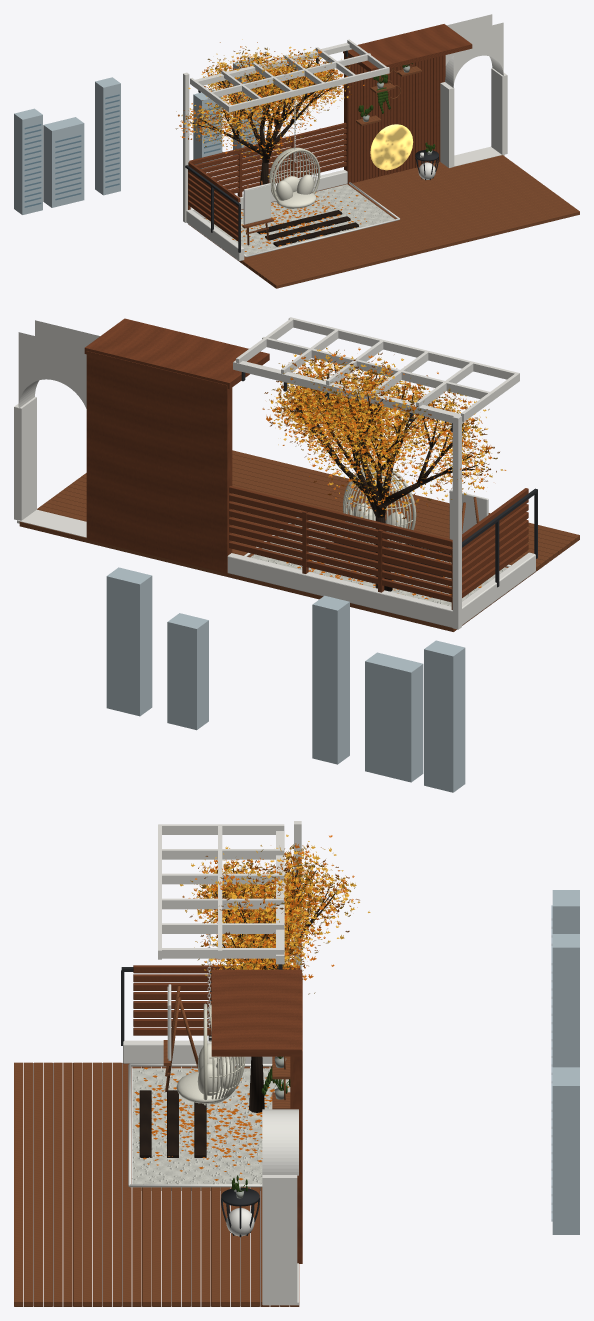
The model's file is Xingtong_Seasonal_Terrace_Textured.glb.
3 views of the same model, one above another, from view 1: azimuth 30°, elevation 25°; view 2: azimuth 150°, elevation 25°; view 3: azimuth 270°, elevation 25° (orthographic). The views are drawn at different scales.
Parts seen in each view (by area): view 1: Gravel_bed, Dense_autumn_canopy_autumn_yellow, Dense_autumn_canopy_autumn_gold, APPROXIMATE_distant_building.001, Small_roof_overhang, APPROXIMATE_distant_building.002, APPROXIMATE_distant_building, Arch_curved_opening_solid_spandrel, Deck_board, Moon_globe_flattened_disk, APPROXIMATE_distant_building.003, Arch_right_jamb (+61 smaller); view 2: Feature_wall_backing, Dense_autumn_canopy_autumn_gold, Dense_autumn_canopy_autumn_yellow, APPROXIMATE_distant_building.001, APPROXIMATE_distant_building.004, APPROXIMATE_distant_building.002, APPROXIMATE_distant_building, Small_roof_overhang, Rear_white_parapet, APPROXIMATE_distant_building.003, Arch_curved_opening_solid_spandrel, Autumn_individual_lobed_leaves_autumn_yellow (+28 smaller); view 3: Gravel_bed, Small_roof_overhang, APPROXIMATE_distant_building.004, Dense_autumn_canopy_autumn_gold, Arch_right_jamb, Dense_autumn_canopy_autumn_yellow, APPROXIMATE_distant_building.002, Autumn_individual_lobed_leaves_autumn_yellow, Deck_board, Deck_board.001, Deck_board.002, Deck_board.003 (+43 smaller).
Boxes of the visible parts, box(x1,y1,x2,y2) form: Gravel_bed: box(205, 184, 394, 255); Dense_autumn_canopy_autumn_yellow: box(176, 39, 354, 177); Dense_autumn_canopy_autumn_gold: box(175, 42, 364, 171); APPROXIMATE_distant_building.001: box(43, 117, 84, 207); Small_roof_overhang: box(343, 24, 472, 71); APPROXIMATE_distant_building.002: box(95, 77, 120, 195); APPROXIMATE_distant_building: box(14, 108, 42, 214); Arch_curved_opening_solid_spandrel: box(445, 14, 503, 87); Deck_board: box(273, 209, 579, 288); Moon_globe_flattened_disk: box(370, 124, 413, 170); APPROXIMATE_distant_building.003: box(193, 89, 222, 168); Arch_right_jamb: box(491, 68, 507, 155); Feature_wall_backing: box(86, 351, 231, 573); Dense_autumn_canopy_autumn_gold: box(262, 347, 506, 518); Dense_autumn_canopy_autumn_yellow: box(269, 347, 503, 521); APPROXIMATE_distant_building.001: box(365, 652, 423, 782); APPROXIMATE_distant_building.004: box(106, 567, 152, 716); APPROXIMATE_distant_building.002: box(312, 595, 349, 764); APPROXIMATE_distant_building: box(424, 640, 465, 792); Small_roof_overhang: box(84, 318, 269, 389); Rear_white_parapet: box(227, 553, 452, 627); APPROXIMATE_distant_building.003: box(167, 613, 208, 730); Arch_curved_opening_solid_spandrel: box(18, 320, 99, 408); Autumn_individual_lobed_leaves_autumn_yellow: box(276, 349, 497, 488); Gravel_bed: box(132, 1068, 290, 1190); Small_roof_overhang: box(211, 969, 301, 1056); APPROXIMATE_distant_building.004: box(552, 1067, 579, 1234); Dense_autumn_canopy_autumn_gold: box(182, 835, 359, 980); Arch_right_jamb: box(262, 1175, 297, 1304); Dense_autumn_canopy_autumn_yellow: box(180, 834, 370, 994); APPROXIMATE_distant_building.002: box(552, 934, 579, 1067); Autumn_individual_lobed_leaves_autumn_yellow: box(197, 844, 356, 969); Deck_board: box(14, 1062, 23, 1306); Deck_board.001: box(24, 1062, 33, 1306); Deck_board.002: box(33, 1062, 42, 1306); Deck_board.003: box(43, 1062, 52, 1306).
Size of the model in its own units: 13.43 by 6.38 by 10.34.
16 materials, 10 textured.
